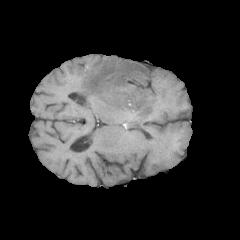glioma: (53, 58, 173, 117)
